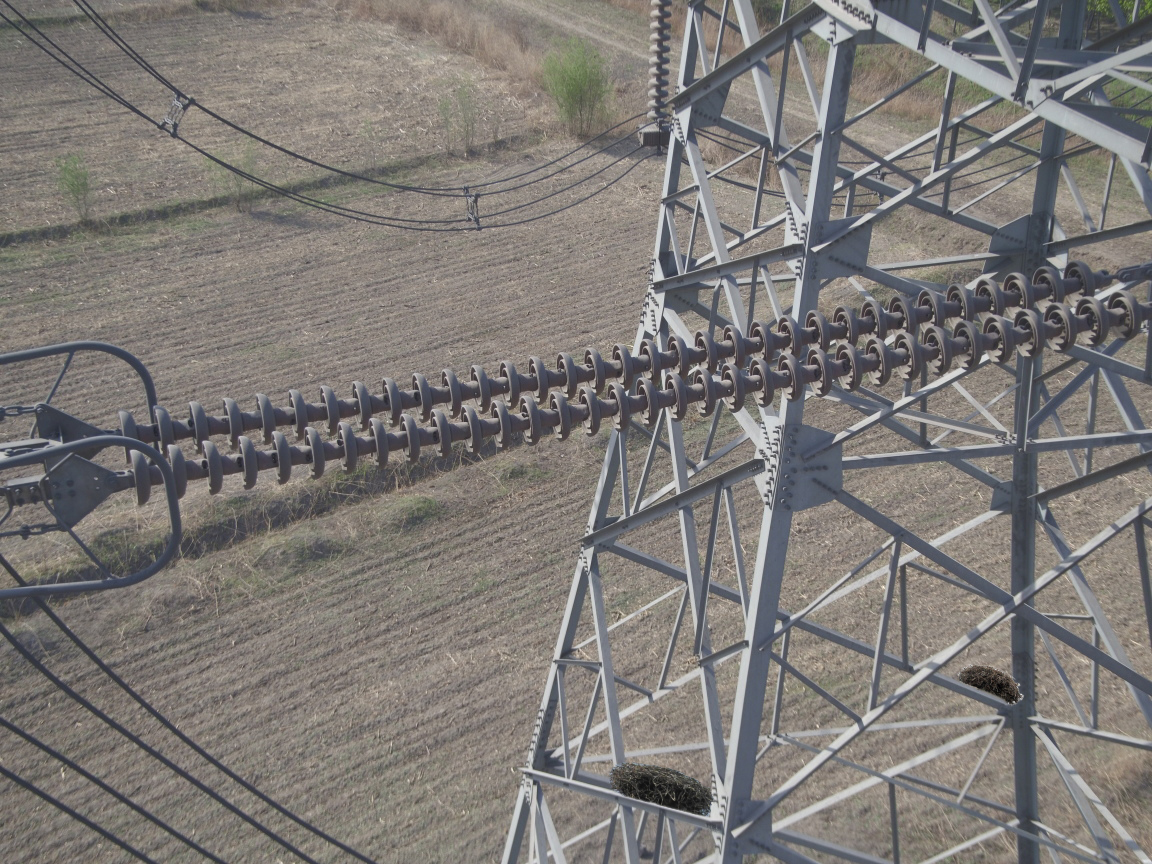nest: (602, 757, 716, 818), (954, 664, 1026, 710)
